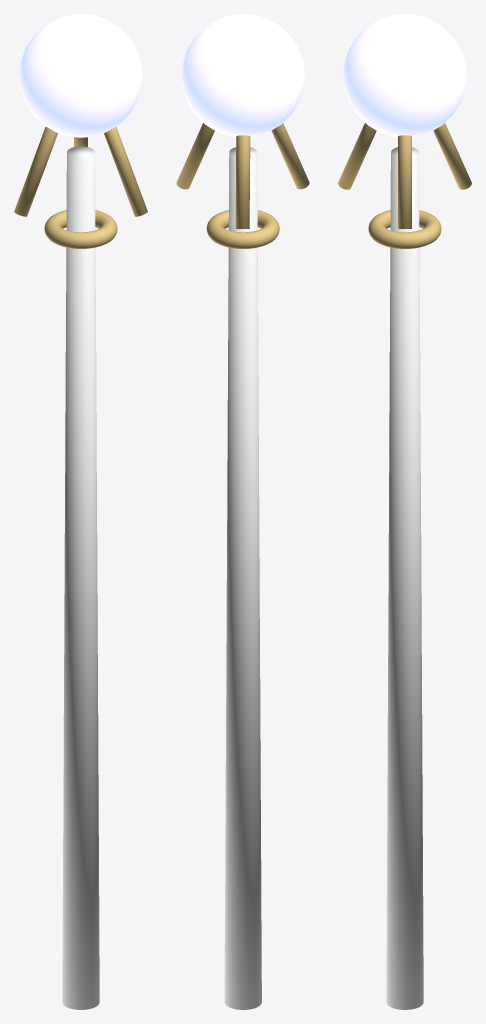
Rendered from asa_1.glb.
The picture shows the model from 3 angles, left to right: view 1: azimuth 90°, elevation 25°; view 2: azimuth 150°, elevation 25°; view 3: azimuth 270°, elevation 25°; orthographic projection.
Parts seen in each view (by area): view 1: Cone, Sphere, Torus, Cone.002, Cone.003; view 2: Cone, Sphere, Torus, Cone.002, Cone.001, Cone.003; view 3: Cone, Sphere, Torus, Cone.001, Cone.002, Cone.003.
Boxes of the visible parts, <box> form: Cone: <box>62,146,99,1009</box>; Sphere: <box>19,14,142,137</box>; Torus: <box>44,210,117,248</box>; Cone.002: <box>14,127,57,216</box>; Cone.003: <box>104,127,147,216</box>; Cone: <box>224,147,261,1009</box>; Sphere: <box>181,14,304,136</box>; Torus: <box>206,210,279,248</box>; Cone.002: <box>235,135,250,228</box>; Cone.001: <box>176,123,214,189</box>; Cone.003: <box>271,123,309,189</box>; Cone: <box>386,147,423,1009</box>; Sphere: <box>343,14,466,136</box>; Torus: <box>368,210,441,248</box>; Cone.001: <box>398,135,411,228</box>; Cone.002: <box>433,123,471,189</box>; Cone.003: <box>338,123,376,189</box>.
Size of the model in its own units: 0.294 by 2.31 by 0.2856.
